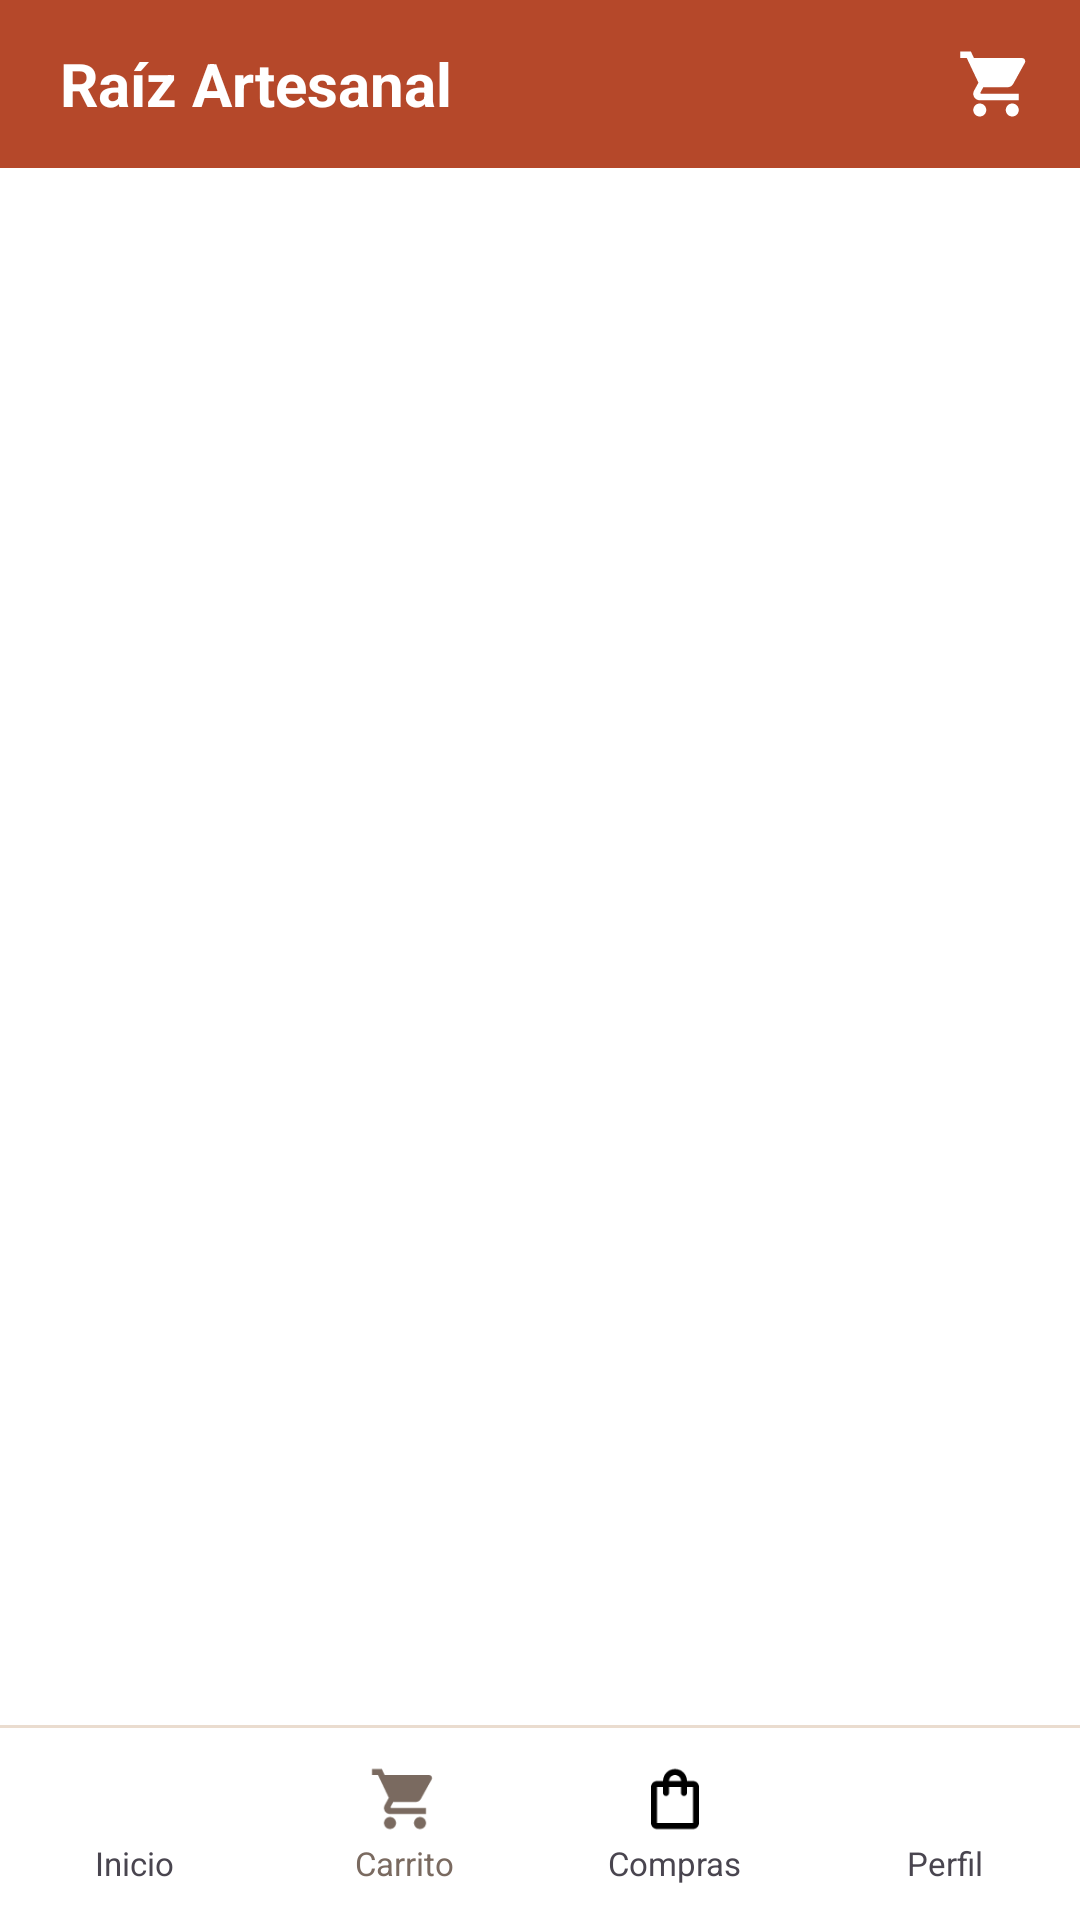

Screen size 1080w x 1920h. Icon name, then its box in pixels as (x1, y1, x2, y2):
bag: (651, 1768, 699, 1830)
